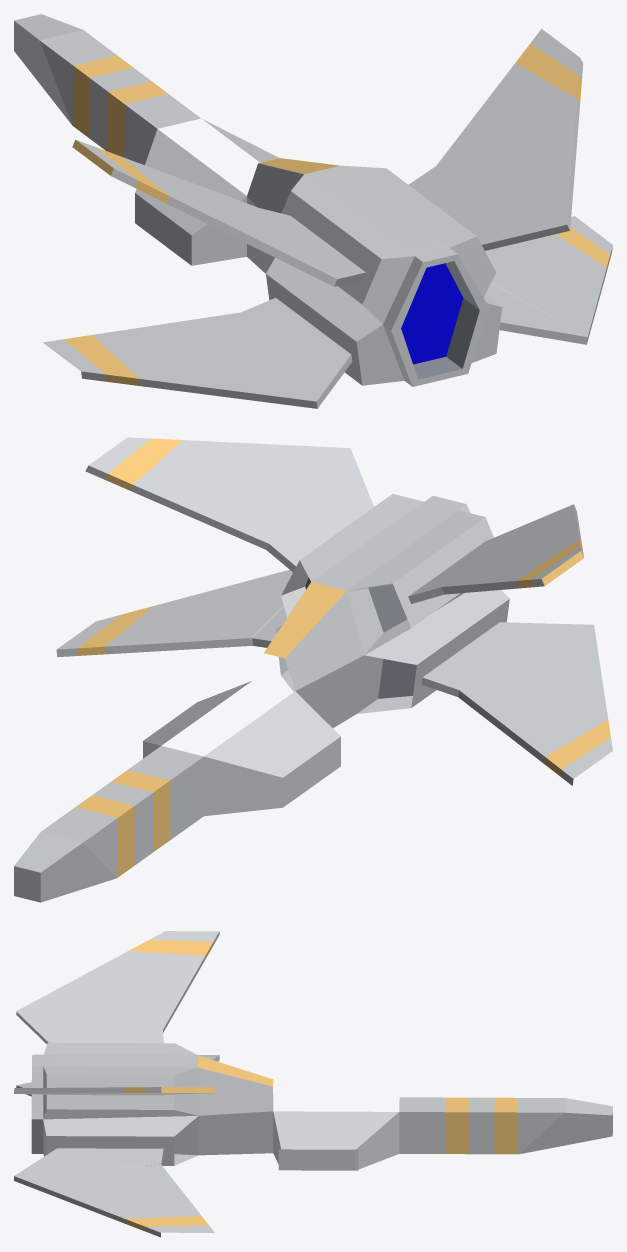
Rendered from dirk_1st.glb.
The picture shows the model from 3 angles, top to bottom: view 1: azimuth 30°, elevation 25°; view 2: azimuth 150°, elevation 25°; view 3: azimuth 270°, elevation 25°; orthographic projection. The views are drawn at different scales.
Parts seen in each view (by area): view 1: ferret-1st; view 2: ferret-1st; view 3: ferret-1st.
Boxes of the visible parts, x1,y1,x2,y2 form: ferret-1st: [14, 14, 612, 408]; ferret-1st: [14, 437, 612, 902]; ferret-1st: [14, 931, 612, 1237].
Bounding box in the file's own units: 22.8 × 8.34 × 32.39.
